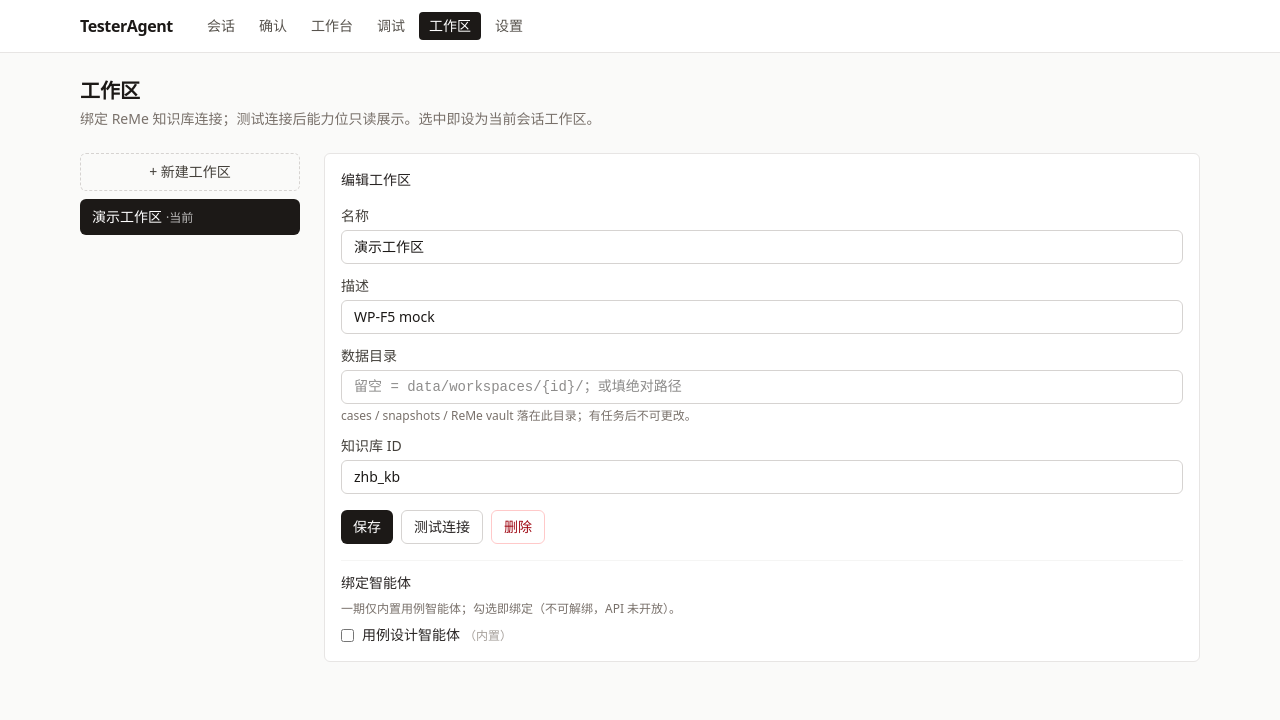
Test: WP-F5 WorkspacesPage › 删除有活跃任务的工作区时 ErrorBanner 展示 TASK_STATE_CONFLICT
Click the button with test id "ws-item-ws-f5".
click(190, 217)  # box top-left (80, 199), bottom-right (300, 235)
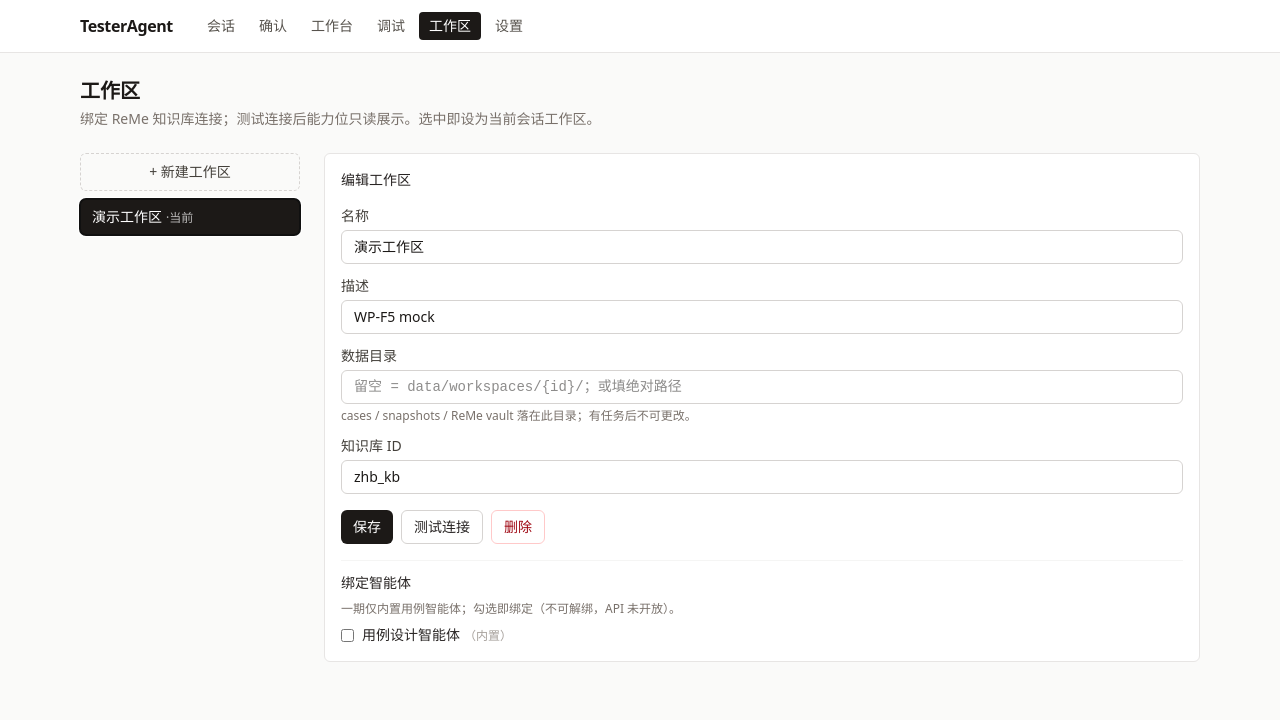
Click the button with test id "ws-delete-btn".
click(518, 527)  # box top-left (491, 510), bottom-right (545, 544)
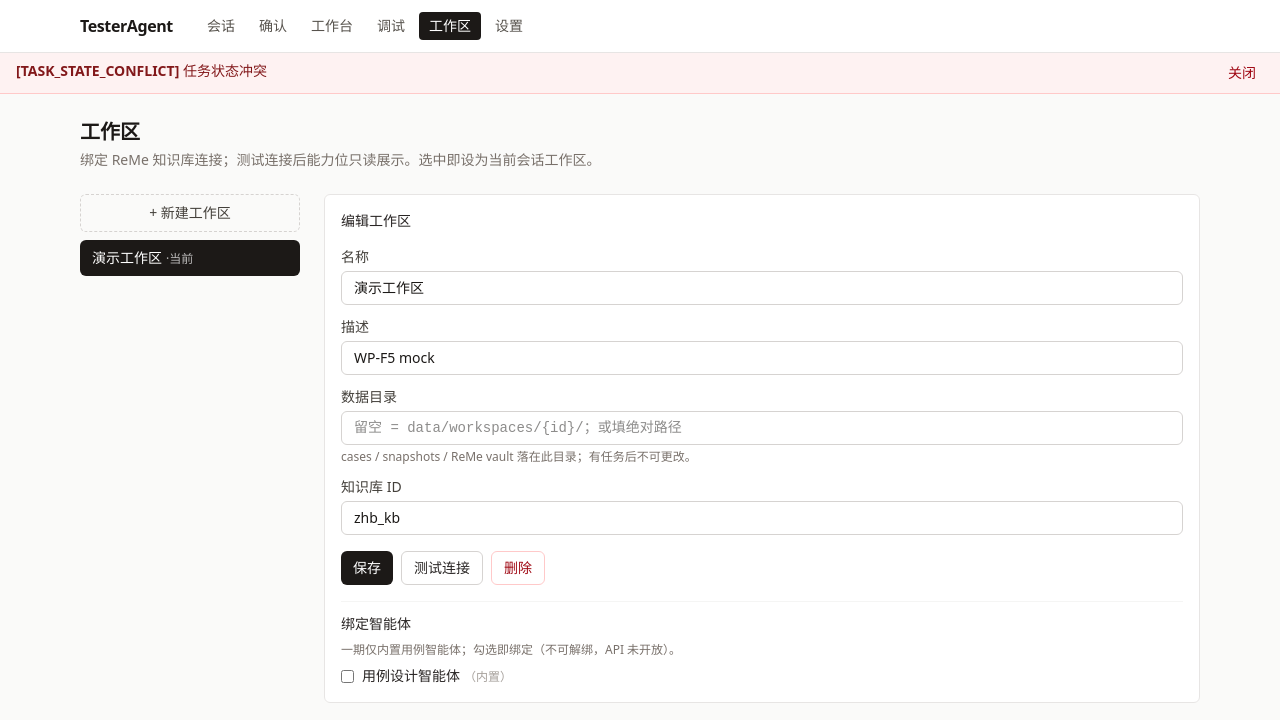
Result: the message with test id "error-banner" shows "TASK_STATE_CONFLICT" at top-left (21, 61), bottom-right (175, 80)
